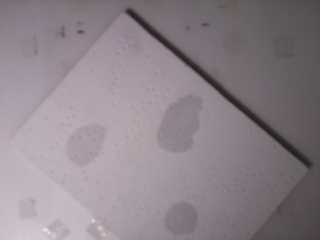Water_detected: (156, 103, 202, 156), (75, 125, 113, 164), (167, 199, 193, 220)
